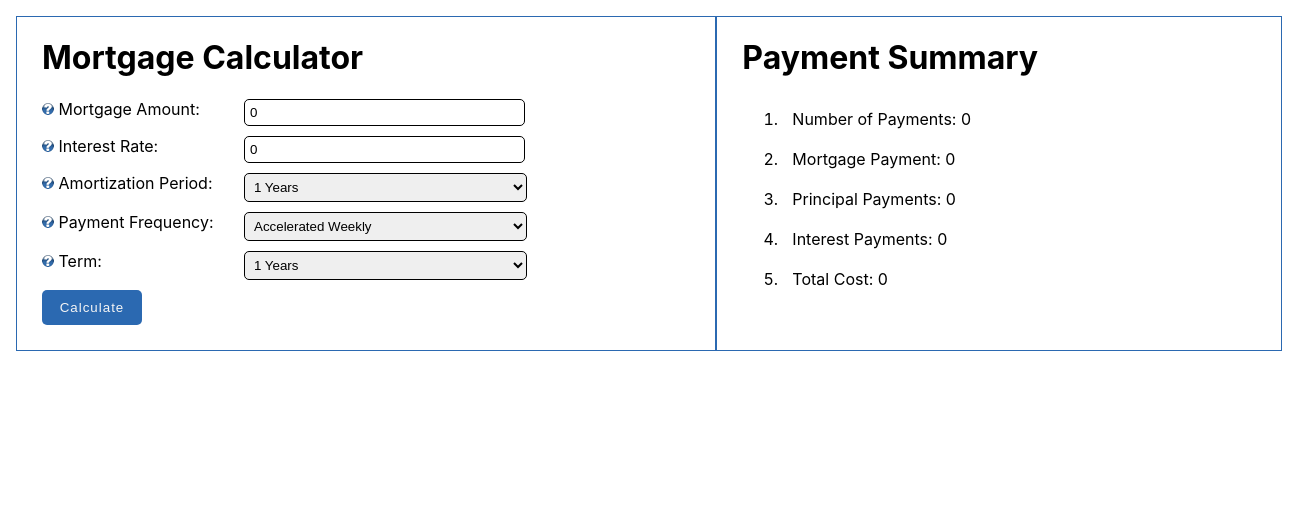
Test case: clicking on info image of label 1 should load info text 1
Click the picture with test id "mortgageamount-label".
click(48, 109)  # box [42, 103, 54, 115]
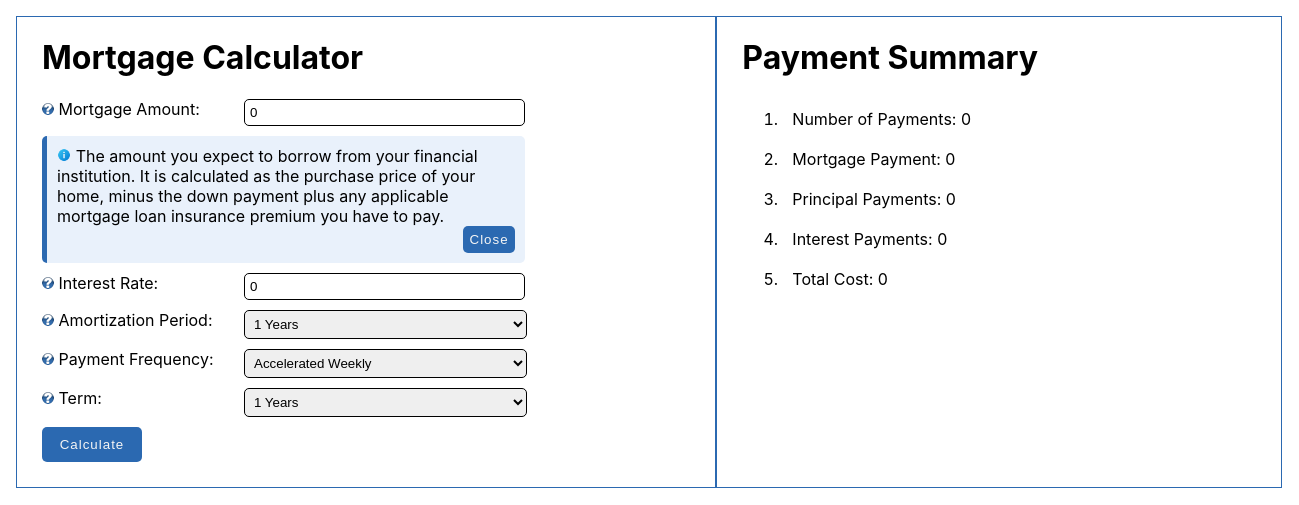
Check: the element with test id "mortgageamount-info-container" is shown, box [42, 136, 525, 263]
